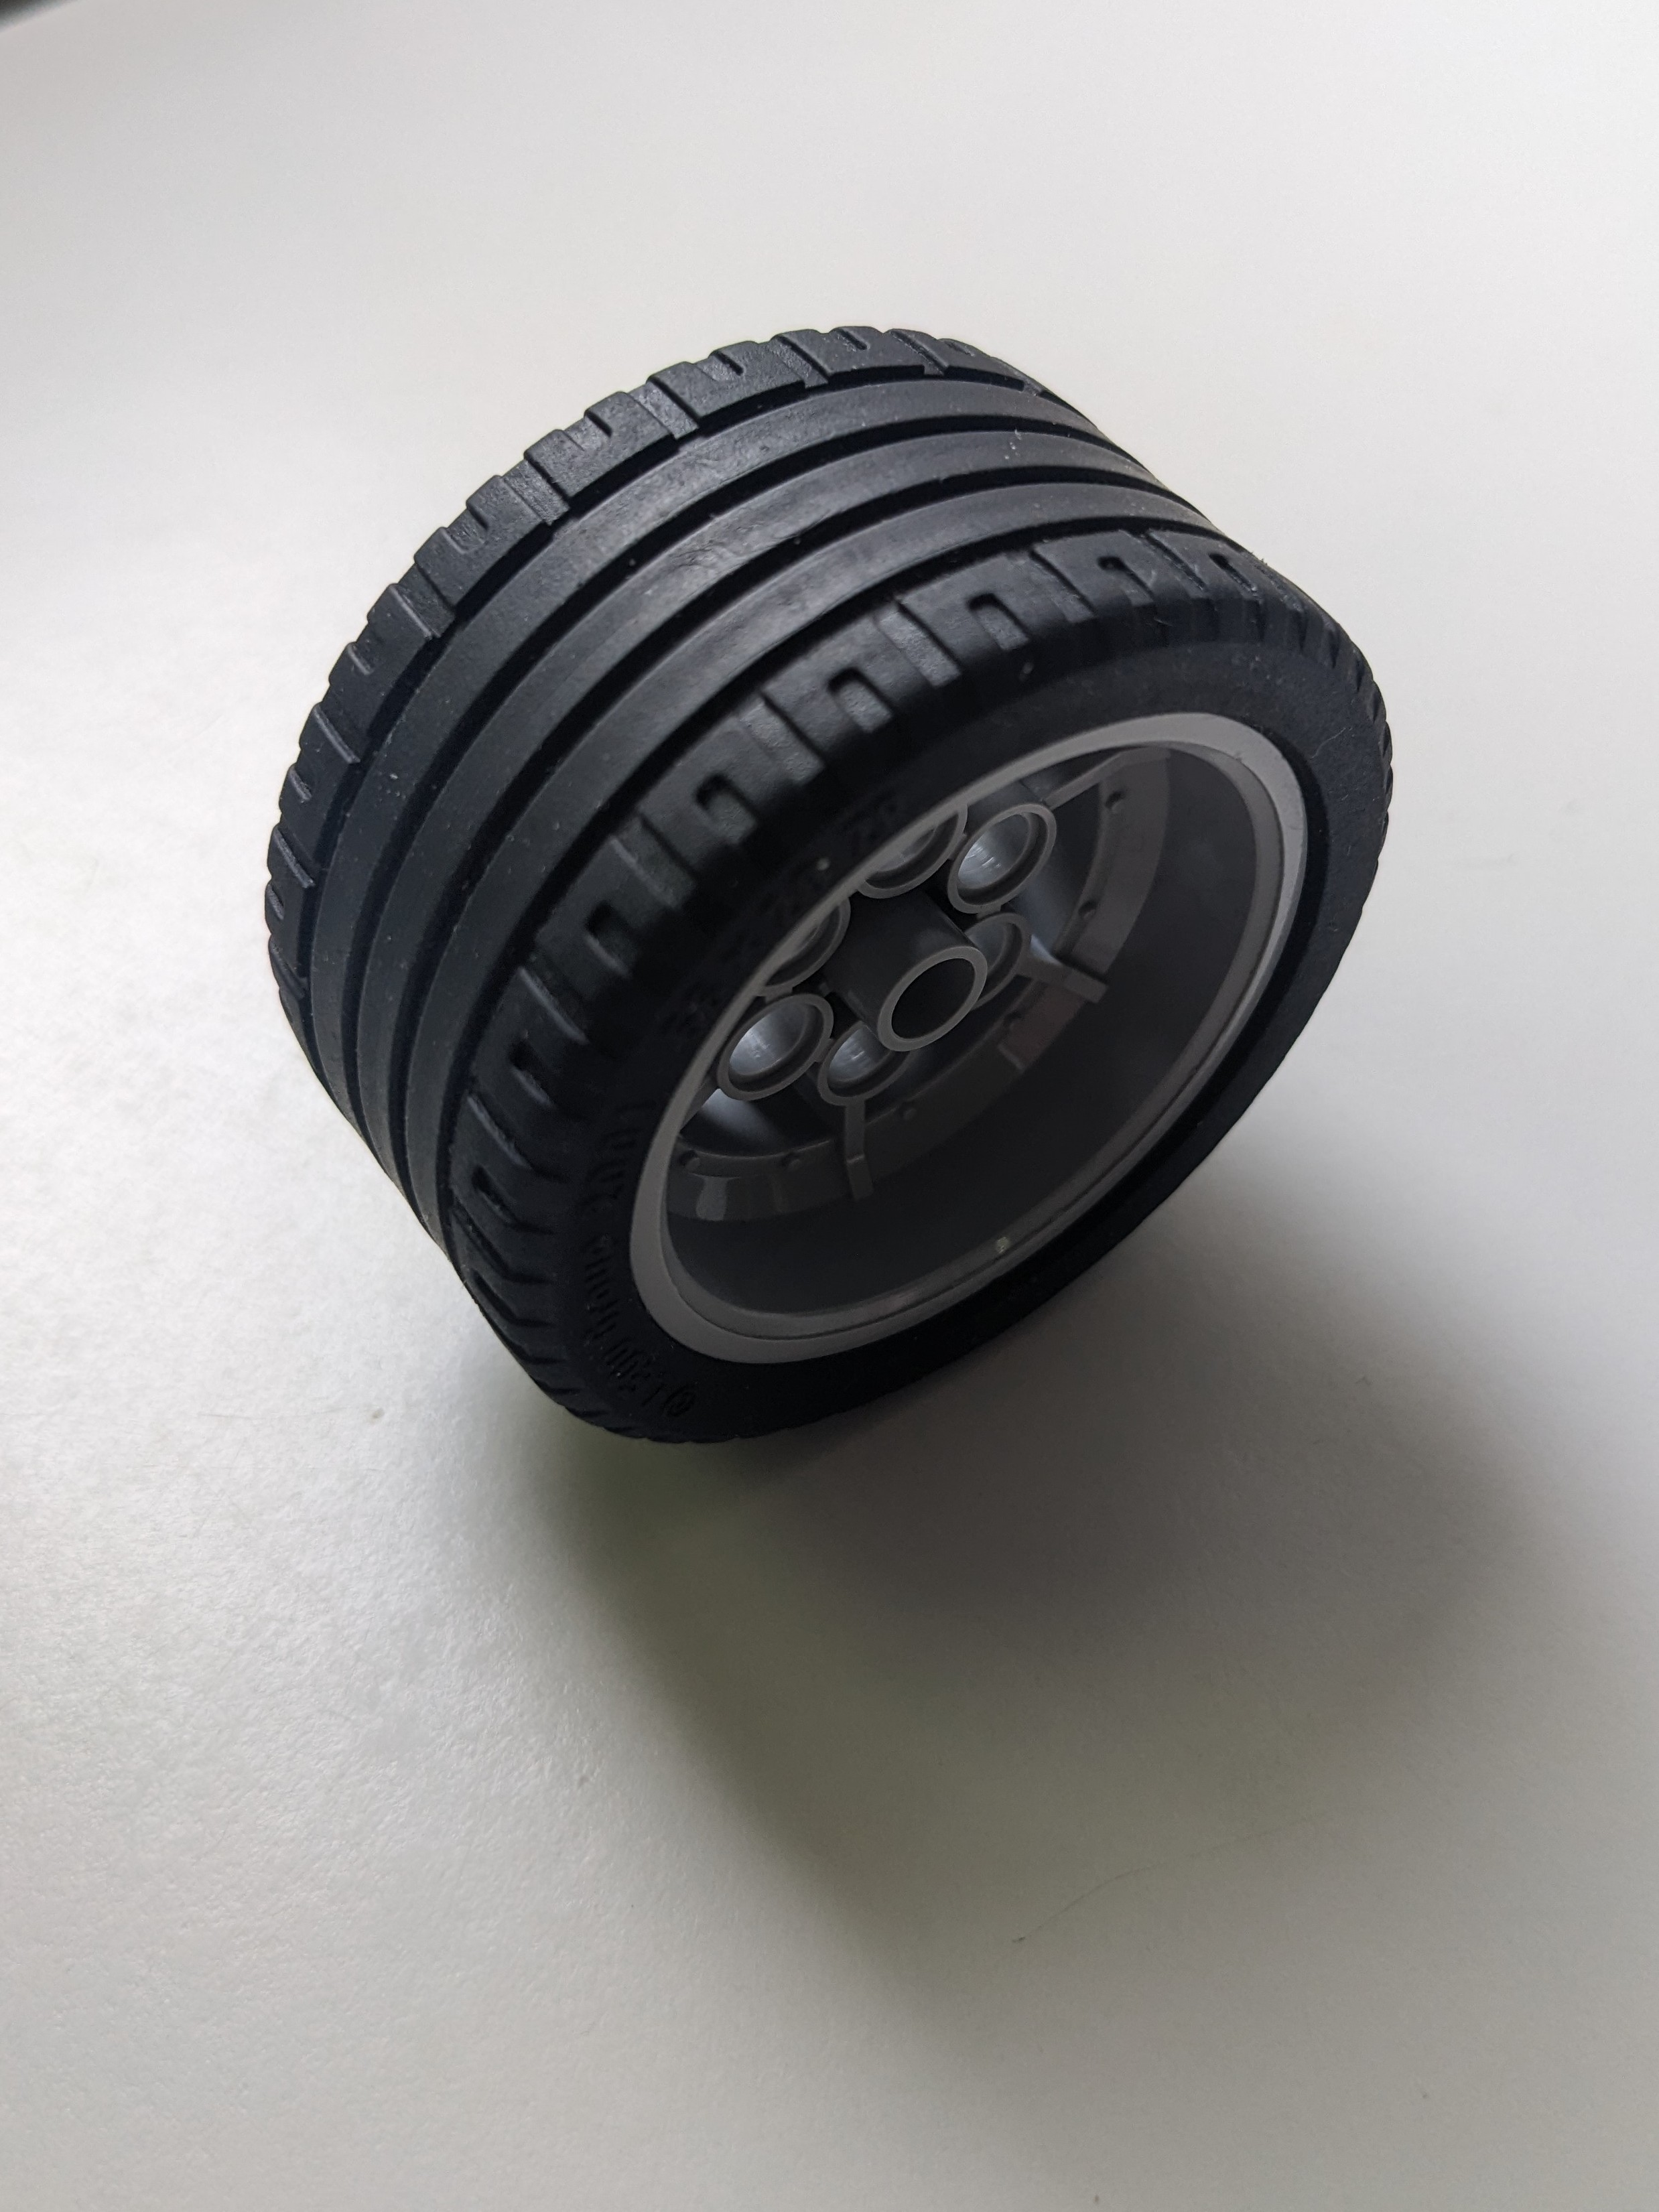Rad: (237, 301, 1436, 1458)
